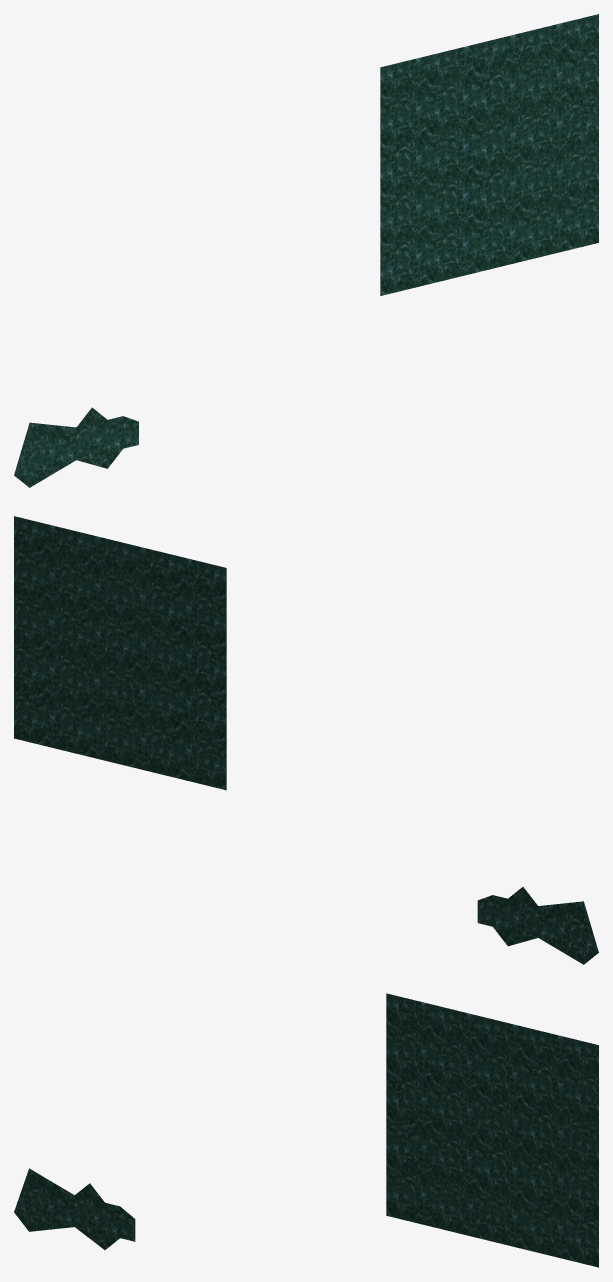
File: tutorial_water.obj
3 views of the same model, one above another, from view 1: azimuth 30°, elevation 25°; view 2: azimuth 150°, elevation 25°; view 3: azimuth 330°, elevation 25° (orthographic). The views are drawn at different scales.
Bounding box in the file's own units: 532 × 280 × 13.
Materials: 1 (1 with a texture image).
